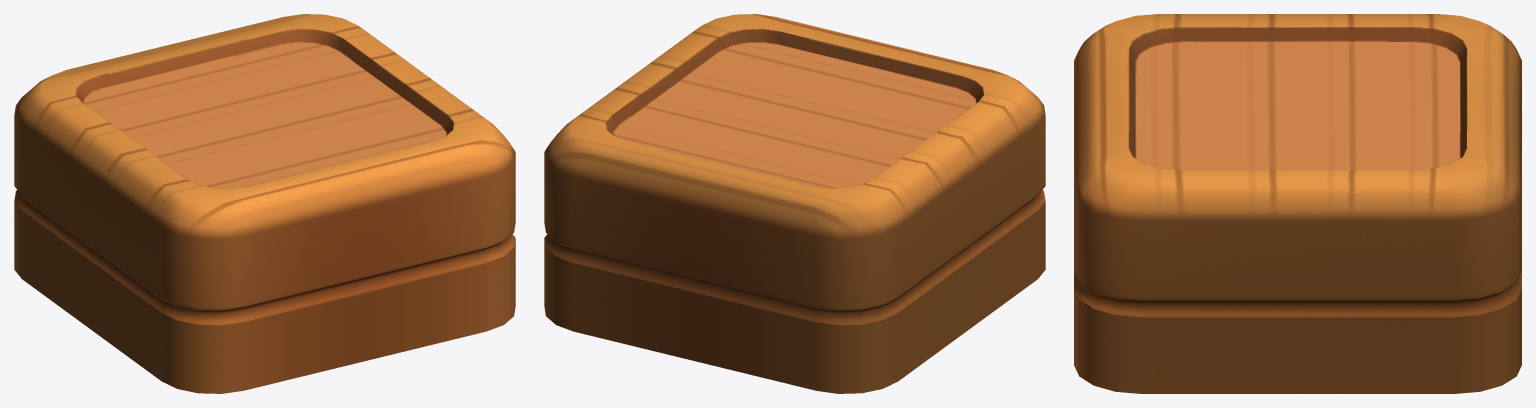
The model's file is model_TraySpec.fbx.
The picture shows the model from 3 angles, left to right: view 1: azimuth 30°, elevation 25°; view 2: azimuth 150°, elevation 25°; view 3: azimuth 270°, elevation 25°; orthographic projection. The views are drawn at different scales.
Parts seen in each view (by area): view 1: model_TraySpec; view 2: model_TraySpec; view 3: model_TraySpec.
Part boxes in pixels (x1,y1,x2,y2): model_TraySpec: (14,14,515,393); model_TraySpec: (544,14,1045,393); model_TraySpec: (1074,14,1521,393).
Bounding box in the file's own units: 100 × 49.5 × 100.
